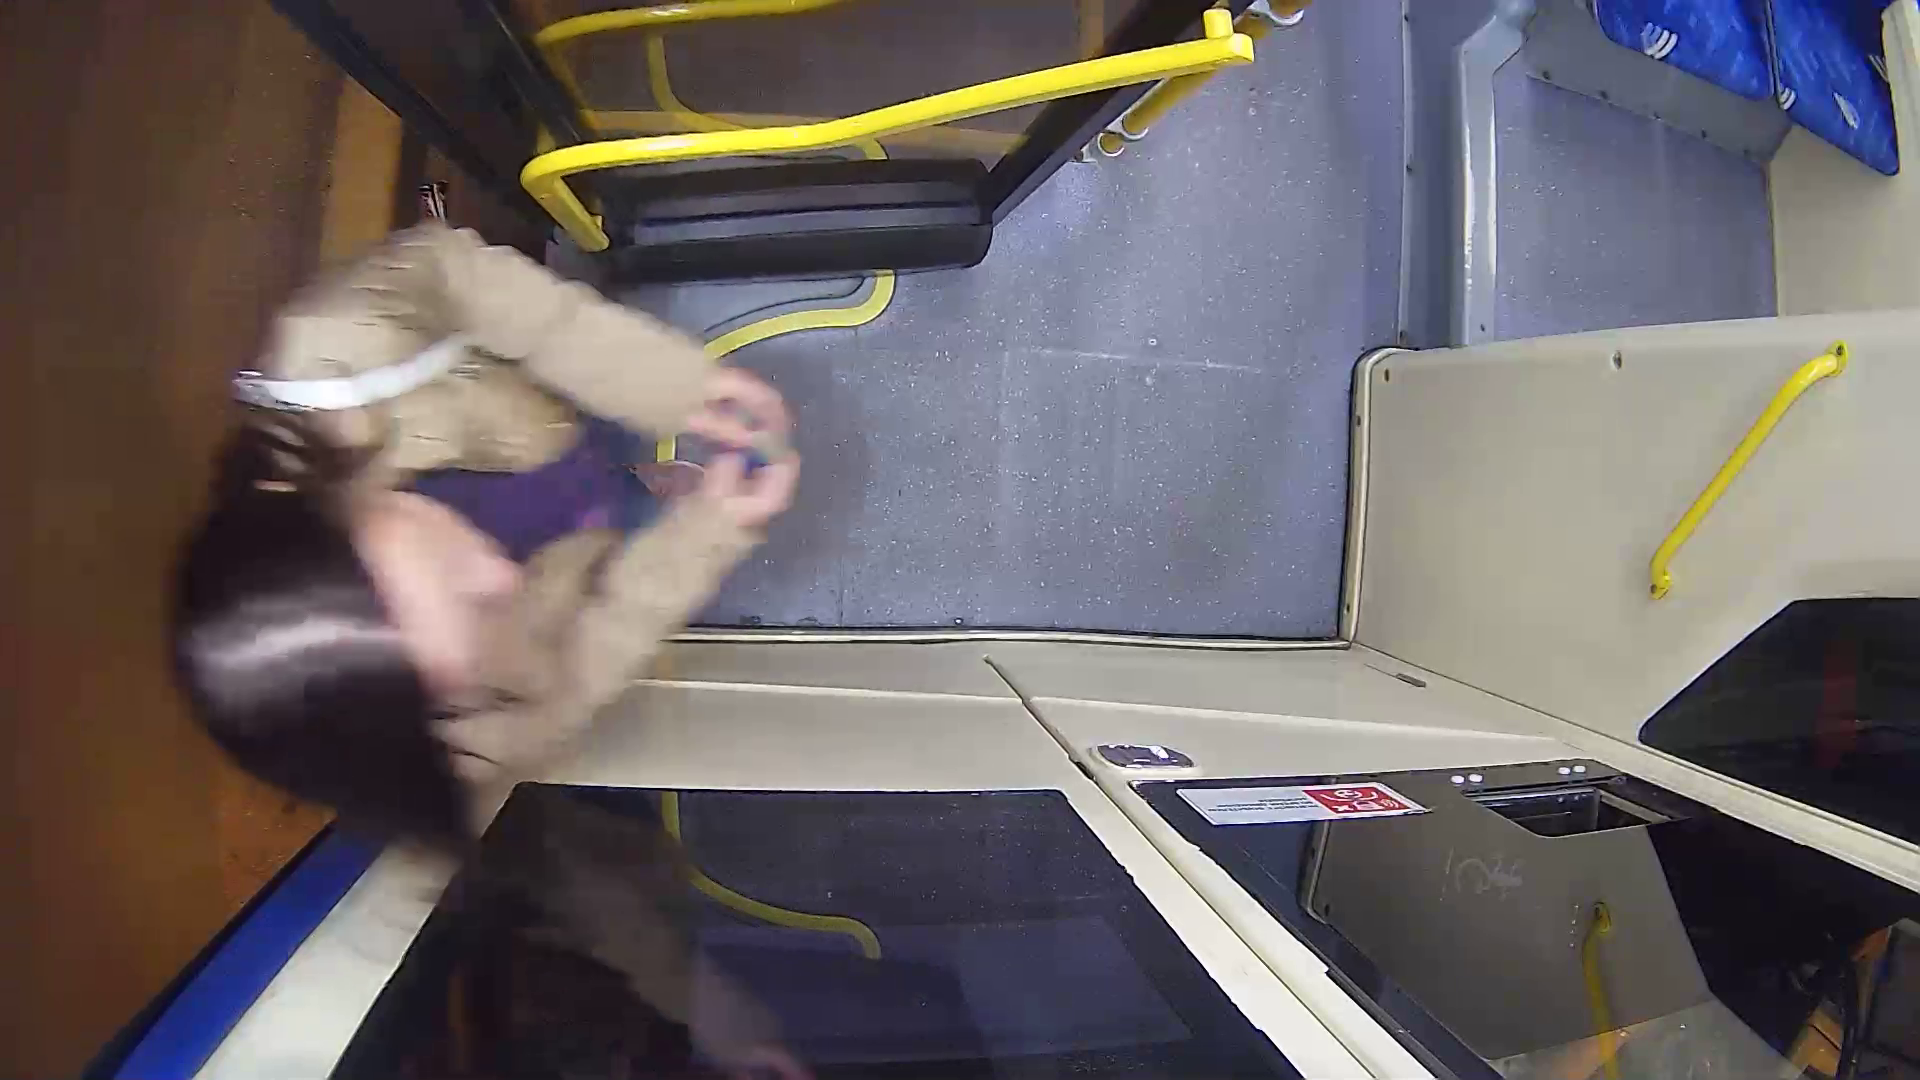person: (146, 236, 854, 831)
